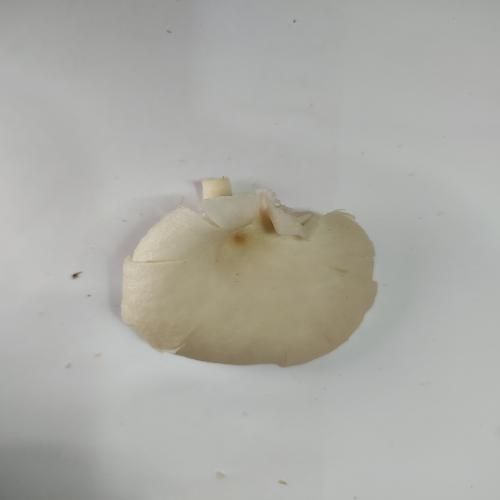Oyster Mushroom: (119, 178, 379, 368)
